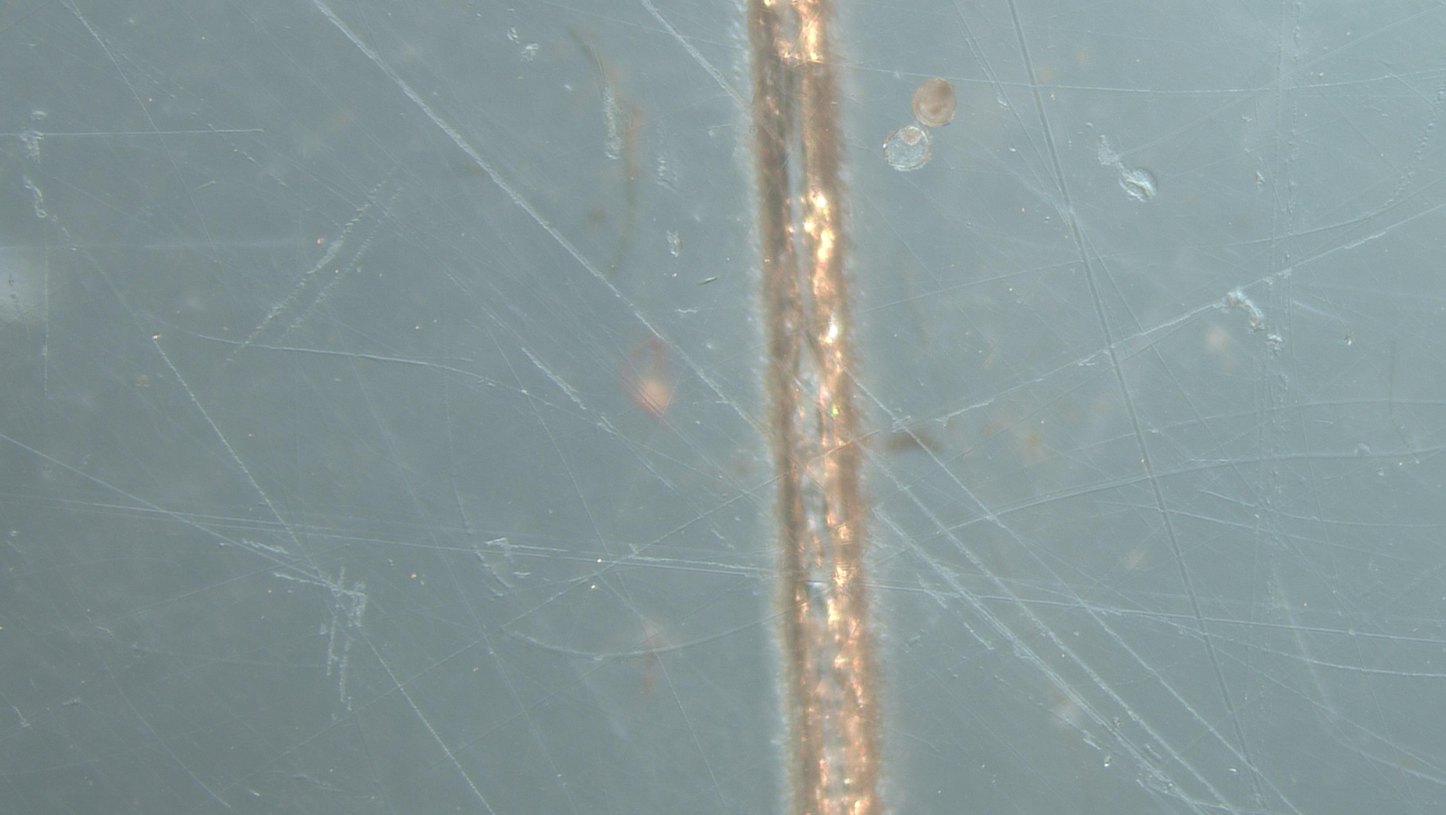dead: (883, 125, 932, 172)
live: (912, 78, 956, 127)
